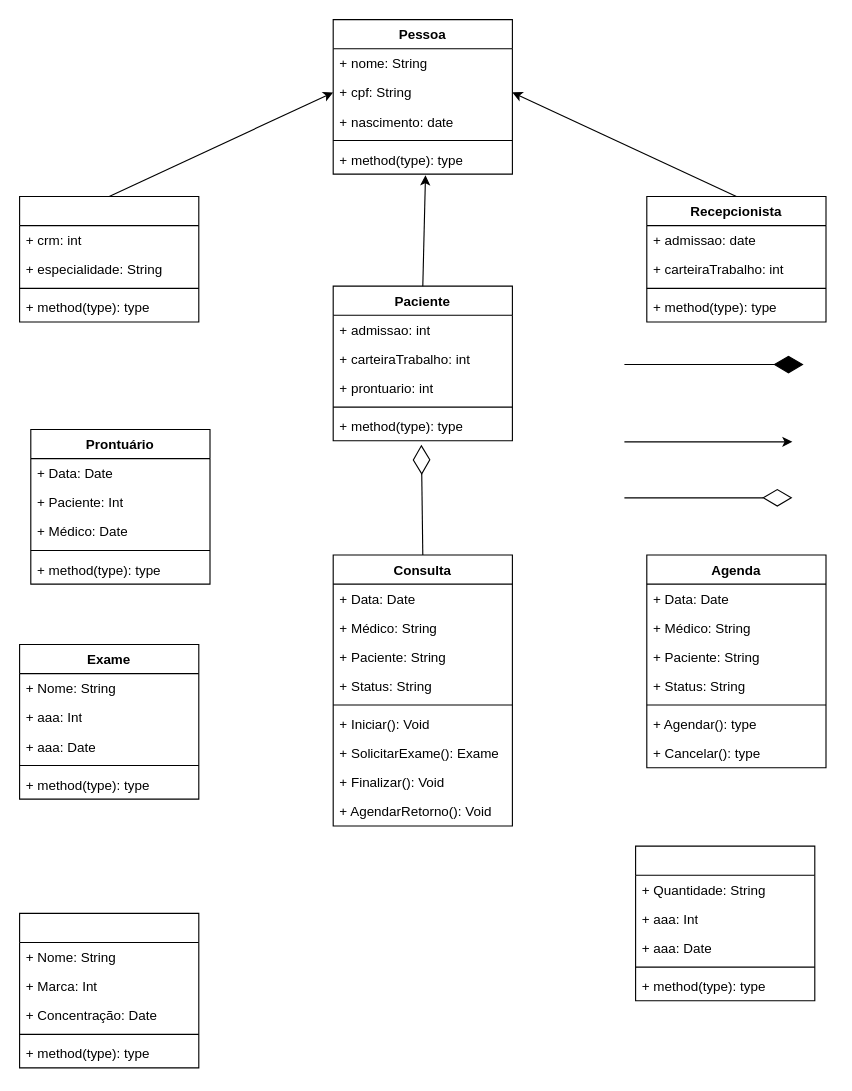
The diagram is 852 pixels wide and 1091 high, and some of its shapes have lost their labels. The box of each missing label's shape, as (x1, y1, x2, y2) in pixels:
Medicamento: (18, 912, 199, 1068)
Medico: (18, 195, 199, 322)
Posologia: (634, 845, 815, 1001)
